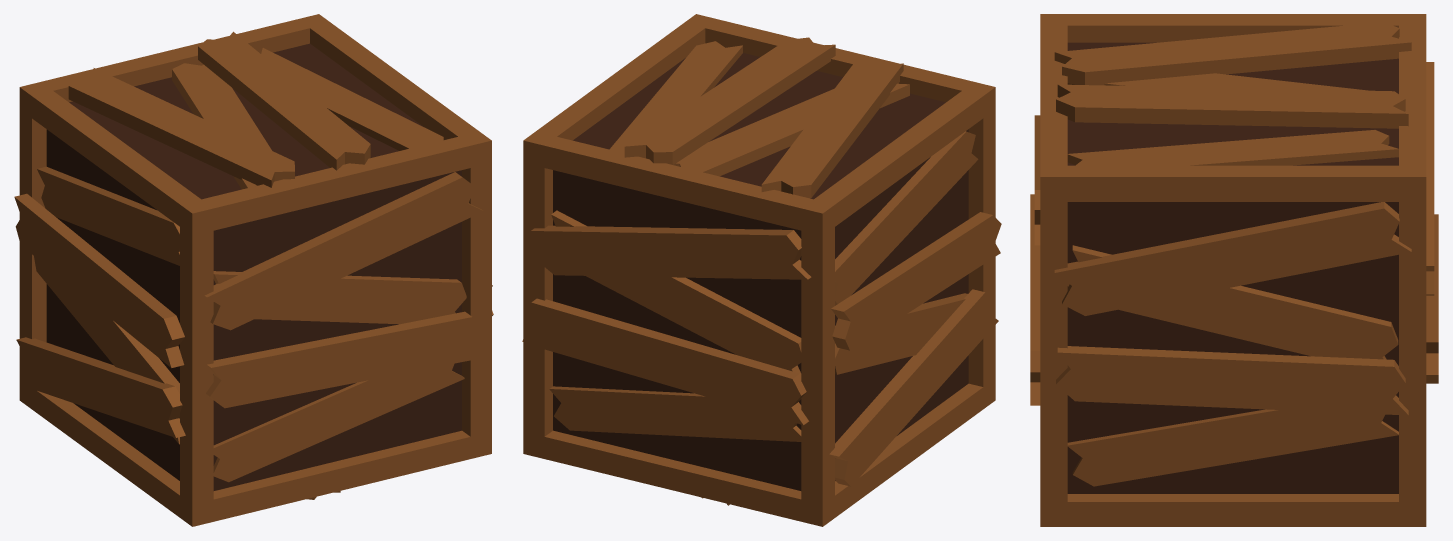
Rendered from caja gande.fbx.
3 renders of one model, left to right at view 1: azimuth 30°, elevation 25°; view 2: azimuth 150°, elevation 25°; view 3: azimuth 270°, elevation 25°, orthographic. The views are drawn at different scales.
Visible parts, largest first — view 1: caja grande; view 2: caja grande; view 3: caja grande.
Boxes of the visible parts, x1,y1,x2,y2 form: caja grande: (14, 14, 493, 526); caja grande: (522, 14, 1001, 526); caja grande: (1030, 14, 1438, 526).
Bounding box in the file's own units: 215 × 213 × 212.
